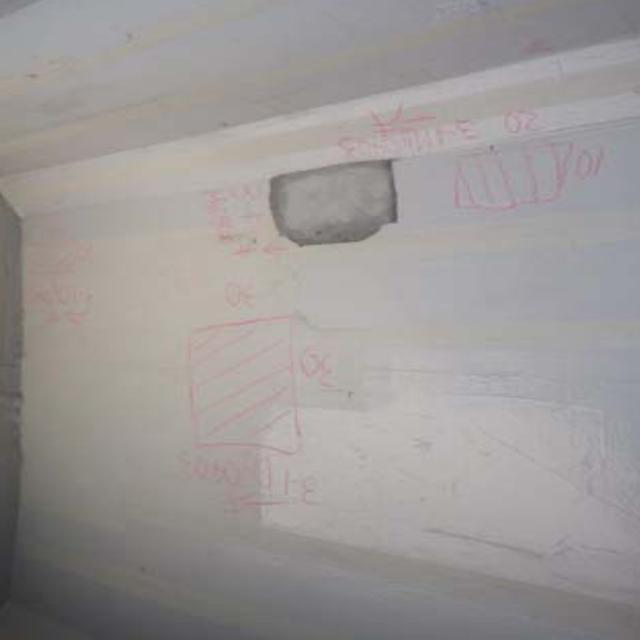spalling: (266, 159, 410, 267)
